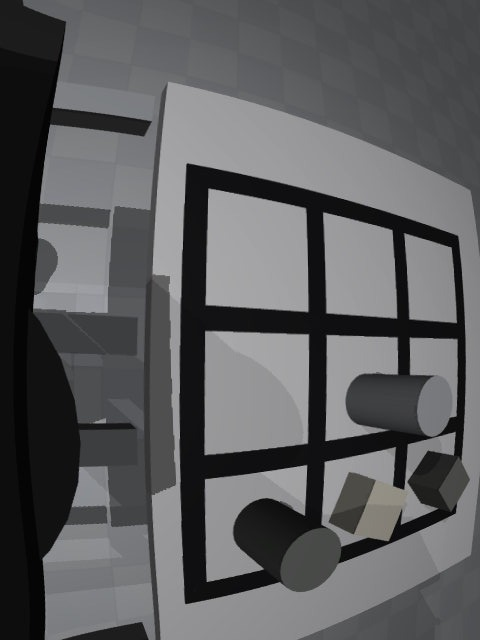can: (346, 373, 453, 437)
cube: (407, 450, 470, 512)
cylinder: (233, 498, 342, 592)
foam: (328, 472, 408, 541)
